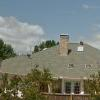Chimney: (53, 29, 73, 60)
